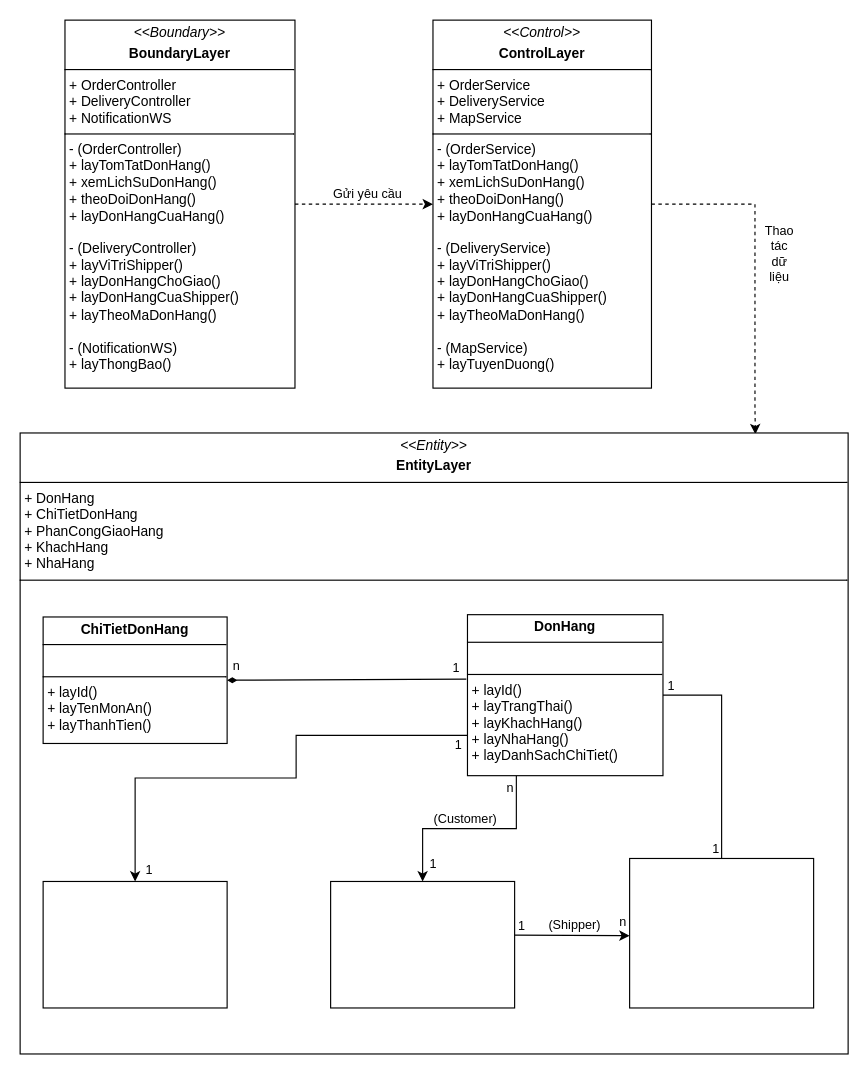
This 868x1074 diagram has some shape labels left out. Each missing label, with the centre of its shape:
KhachHang + layId() + layHoTen() + layVaiTro(): point (422, 944)
NhaHang + layId() + layTenNhaHang() + layChuNhaHang(): point (134, 944)
PhanCongGiaoHang + layId() + layTrangThai() + layShipper() + layDonHang(): point (721, 932)
